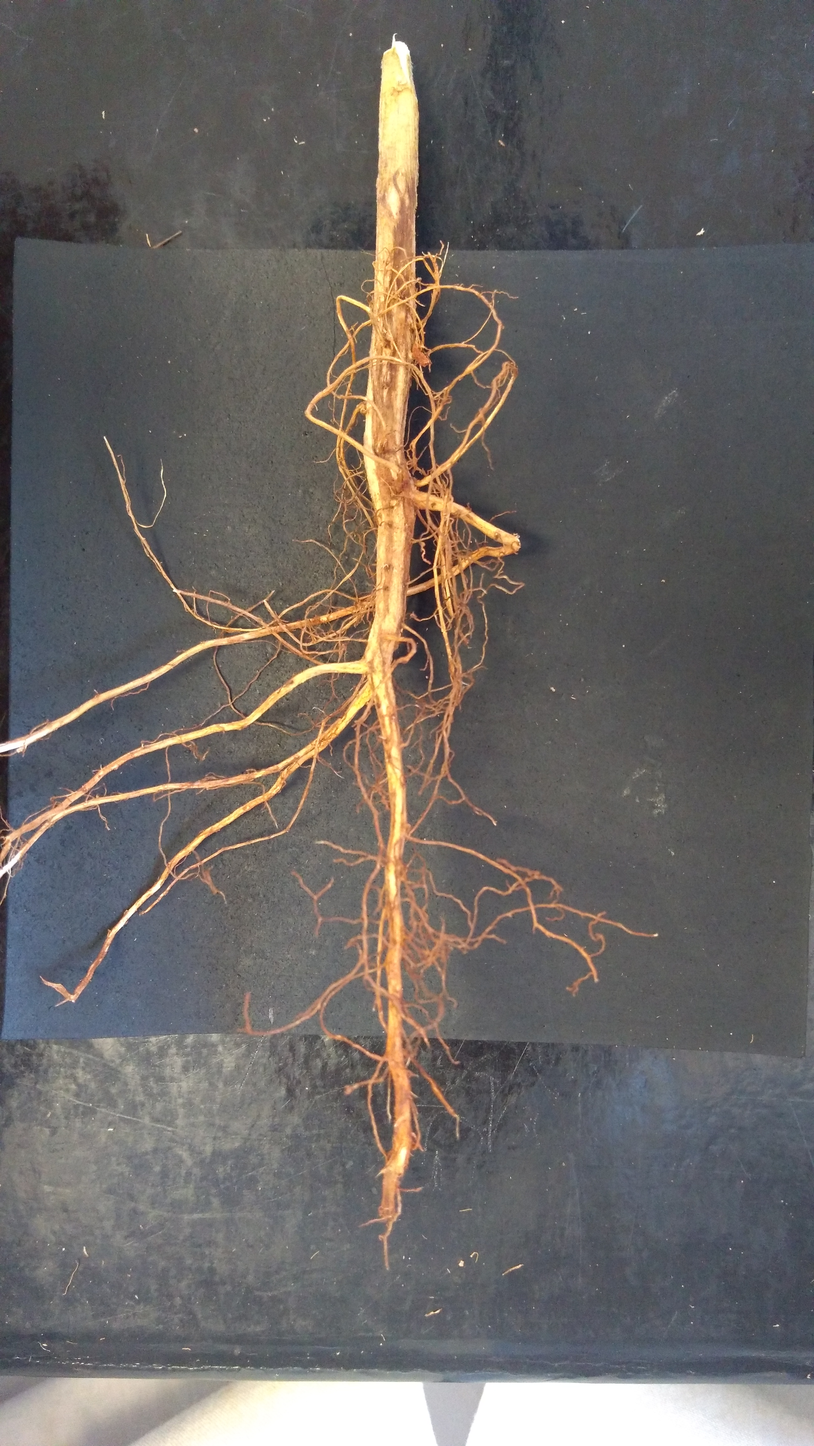nodule: (411, 340, 432, 369), (390, 468, 411, 496), (374, 438, 388, 456), (356, 401, 367, 416), (410, 612, 418, 620), (385, 264, 393, 271), (319, 617, 328, 623), (416, 277, 422, 282)
